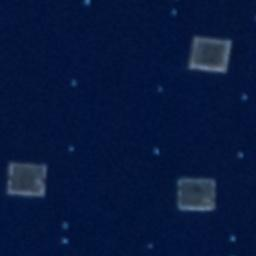square_cover: (182, 31, 236, 77), (2, 156, 54, 202), (172, 171, 220, 217)
